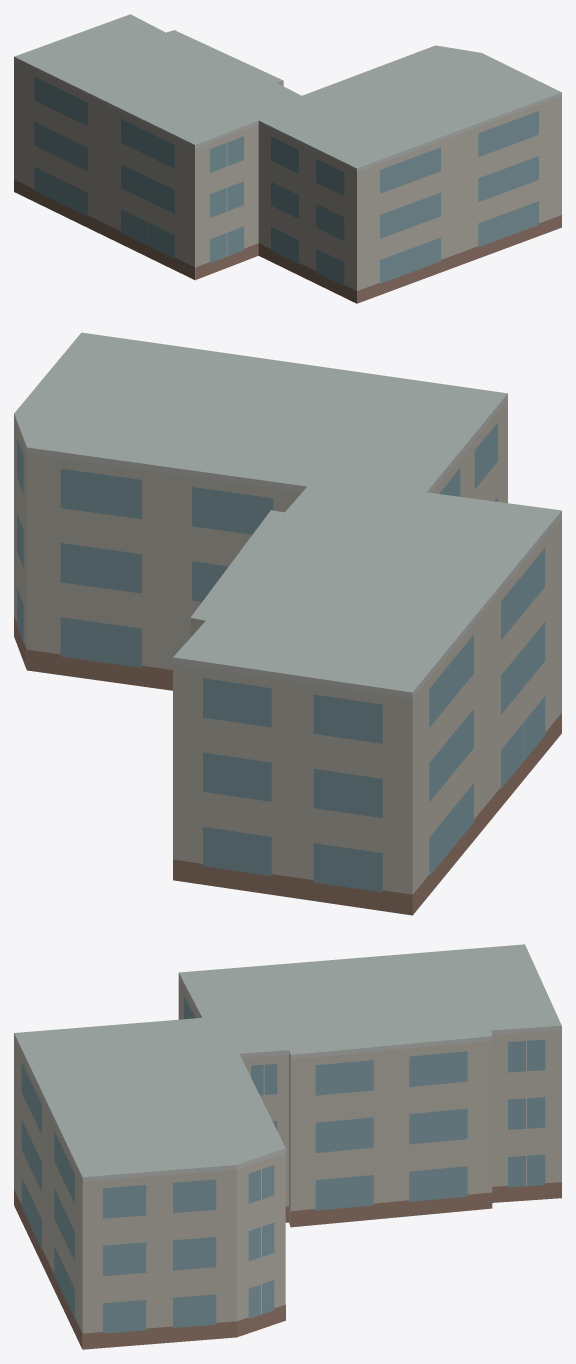
File: survey-upis-32681203.glb
3 renders of one model, top to bottom at view 1: azimuth 30°, elevation 25°; view 2: azimuth 150°, elevation 25°; view 3: azimuth 270°, elevation 25°, orthographic. The views are drawn at different scales.
Visible parts, largest first — view 1: survey-upis-32681203.tmp; view 2: survey-upis-32681203.tmp; view 3: survey-upis-32681203.tmp.
Boxes of the visible parts, x1,y1,x2,y2 form: survey-upis-32681203.tmp: (14,14,561,303); survey-upis-32681203.tmp: (14,332,561,915); survey-upis-32681203.tmp: (14,944,561,1349).
Size of the model in its own units: 26.52 by 9.15 by 26.36.
